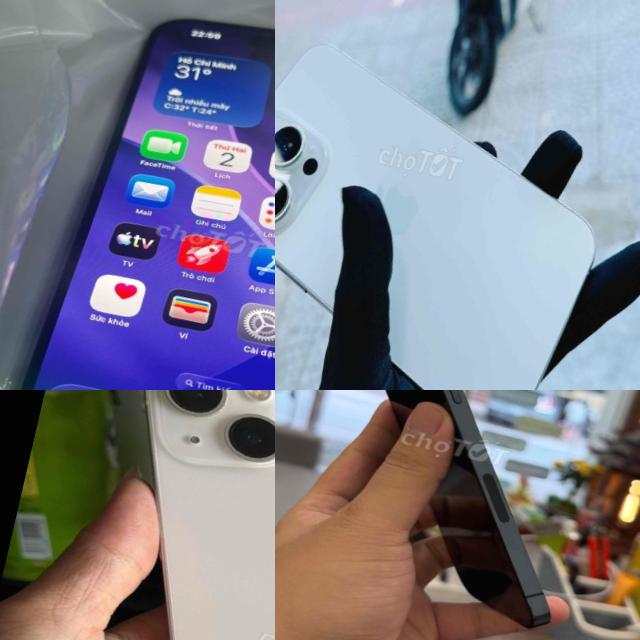gen_12_13: (295, 390, 626, 632), (36, 390, 275, 640)
gen_15: (275, 19, 632, 390), (1, 0, 275, 390)
